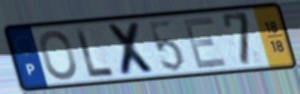5: (146, 18, 187, 73)
7: (218, 11, 256, 69)
E: (180, 15, 230, 71)
L: (73, 25, 117, 80)
O: (38, 28, 79, 82)
X: (104, 20, 160, 78)
